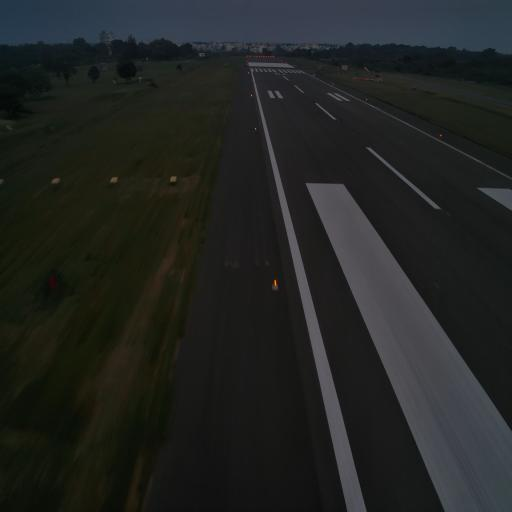off: (418, 281, 426, 291), (446, 209, 452, 219), (434, 278, 439, 290), (351, 130, 355, 136), (338, 170, 342, 176), (346, 170, 350, 176), (330, 171, 333, 176)
on: (271, 277, 280, 296), (439, 132, 443, 139), (254, 126, 257, 132)
